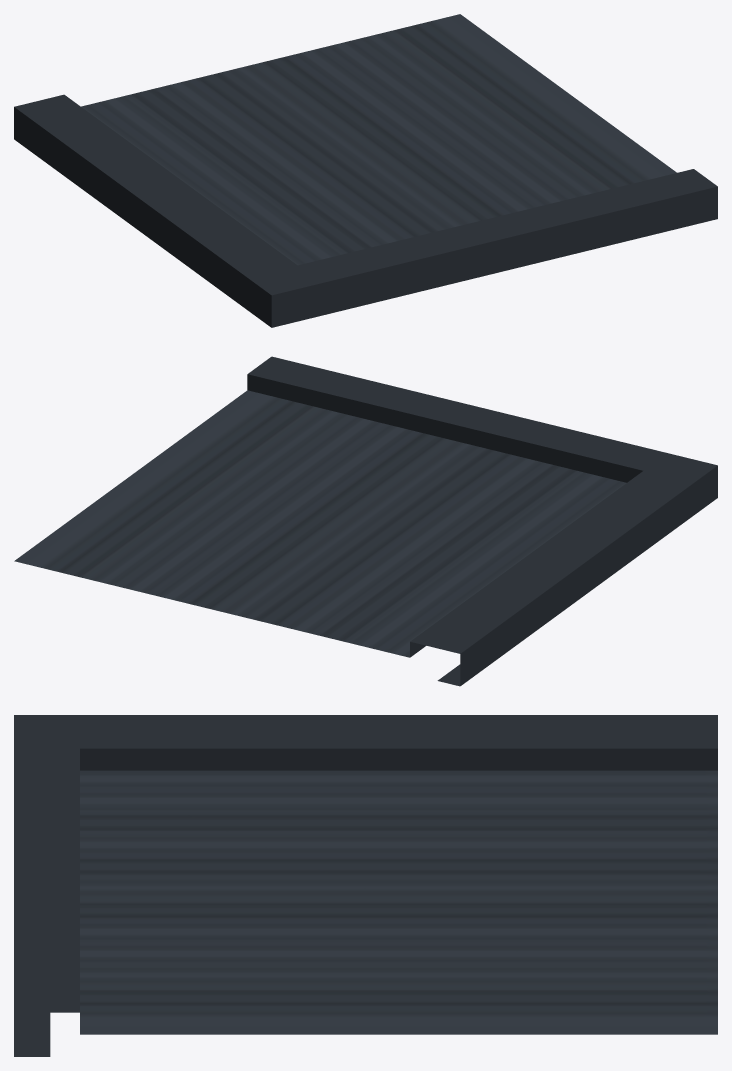
File: SM_Bld_House_Roof_FlatLip_Corner_01.fbx
3 views of the same model, one above another, from view 1: azimuth 30°, elevation 25°; view 2: azimuth 150°, elevation 25°; view 3: azimuth 270°, elevation 25° (orthographic). The views are drawn at different scales.
Visible parts, largest first — view 1: SM_Bld_House_Roof_FlatLip_Corner_01; view 2: SM_Bld_House_Roof_FlatLip_Corner_01; view 3: SM_Bld_House_Roof_FlatLip_Corner_01.
Part boxes in pixels (x1,y1,x2,y2): SM_Bld_House_Roof_FlatLip_Corner_01: [14, 14, 717, 327]; SM_Bld_House_Roof_FlatLip_Corner_01: [14, 356, 717, 686]; SM_Bld_House_Roof_FlatLip_Corner_01: [14, 715, 717, 1056].
Bounding box in the file's own units: 285 × 19.81 × 285.
